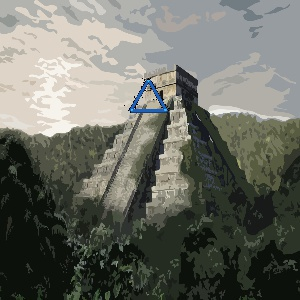triangle: (125, 77, 170, 115)
